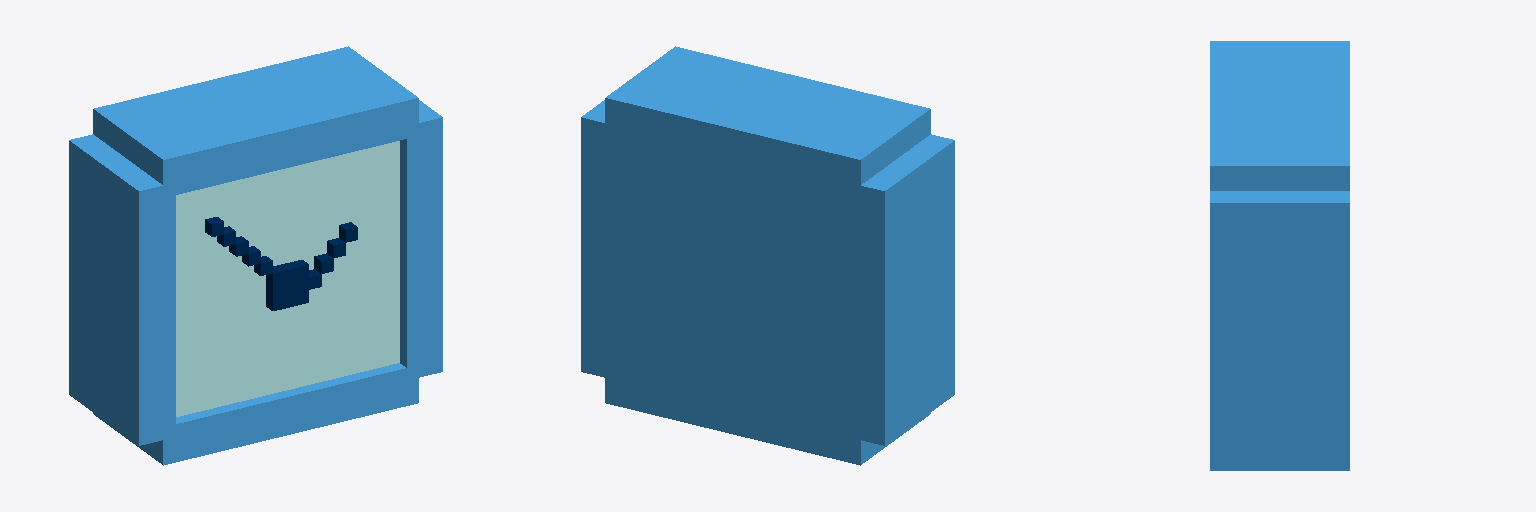
3 views of the same model, side by side, from view 1: azimuth 30°, elevation 25°; view 2: azimuth 150°, elevation 25°; view 3: azimuth 270°, elevation 25° (orthographic).
Parts seen in each view (by area): view 1: 시계; view 2: 시계; view 3: 시계.
Boxes of the visible parts, box(x1,y1,x2,y2) form: 시계: box(69, 46, 442, 465); 시계: box(581, 46, 954, 465); 시계: box(1210, 41, 1349, 470).
Bounding box in the file's own units: 25 × 24 × 10.
Materials: 1 (1 with a texture image).